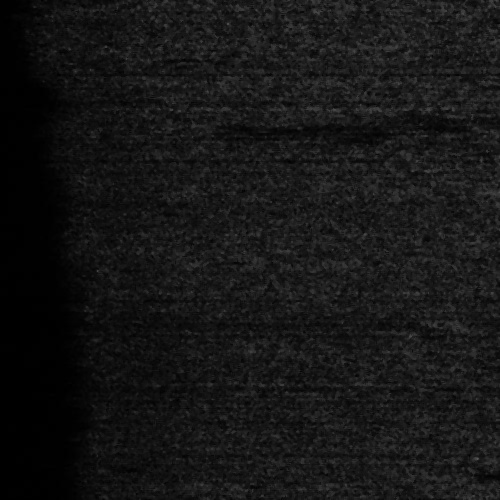object: (406, 315, 499, 326), (400, 471, 473, 476)
shadow: (452, 315, 500, 326), (437, 471, 500, 476)
